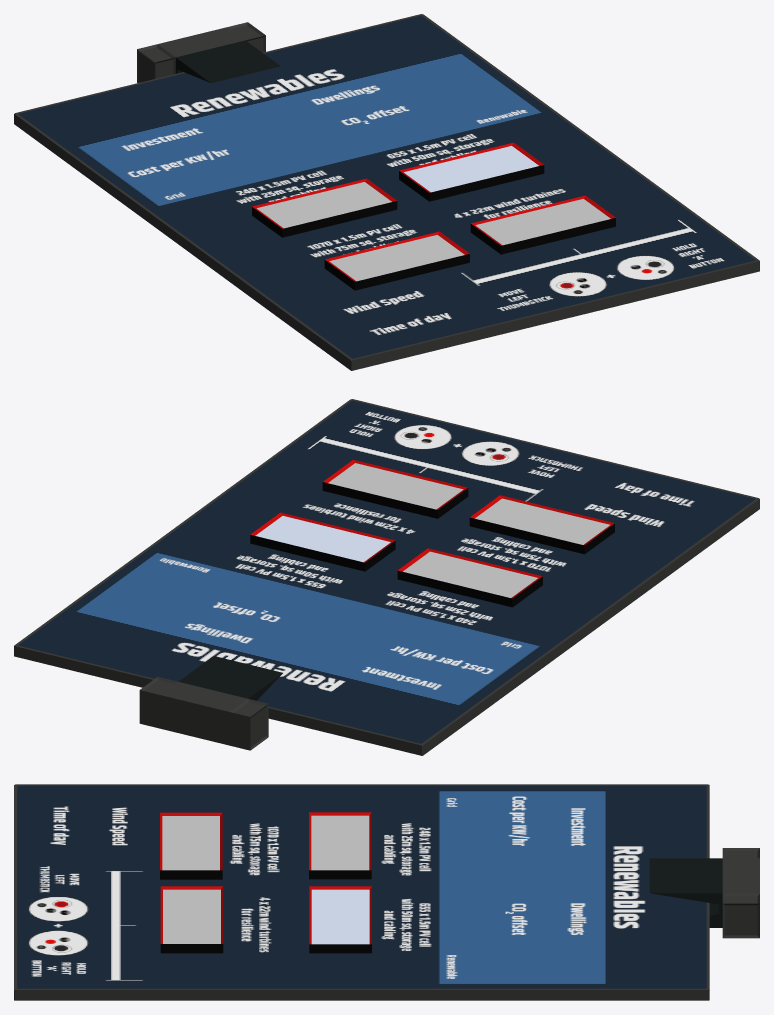
File: clip_solar8.obj
3 views of the same model, one above another, from view 1: azimuth 30°, elevation 25°; view 2: azimuth 150°, elevation 25°; view 3: azimuth 270°, elevation 25° (orthographic). The views are drawn at different scales.
Visible parts, largest first — view 1: clipboard_solar; view 2: clipboard_solar; view 3: clipboard_solar.
Part boxes in pixels (box(x1,y1,x2,y2)): clipboard_solar: box(14, 14, 759, 370); clipboard_solar: box(14, 399, 759, 755); clipboard_solar: box(14, 784, 759, 1000).
Bounding box in the file's own units: 0.2144 × 0.0169 × 0.3289.
16 materials, 1 textured.
